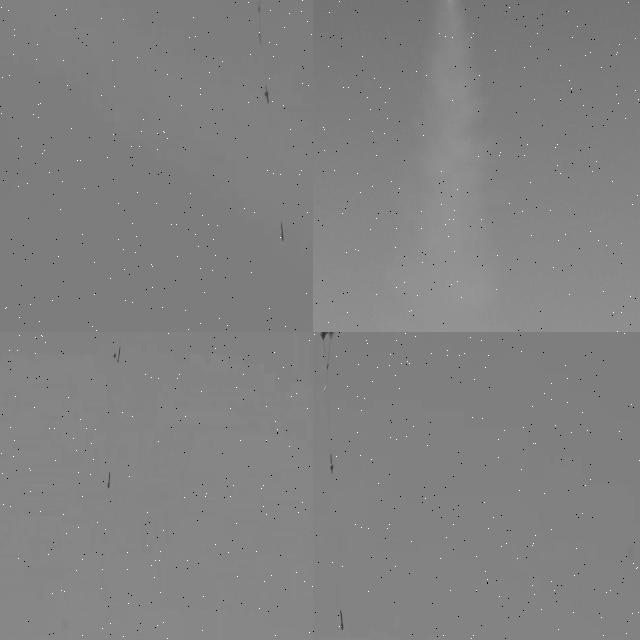Rocket: (280, 221, 285, 241), (340, 610, 344, 630), (107, 470, 111, 488)
